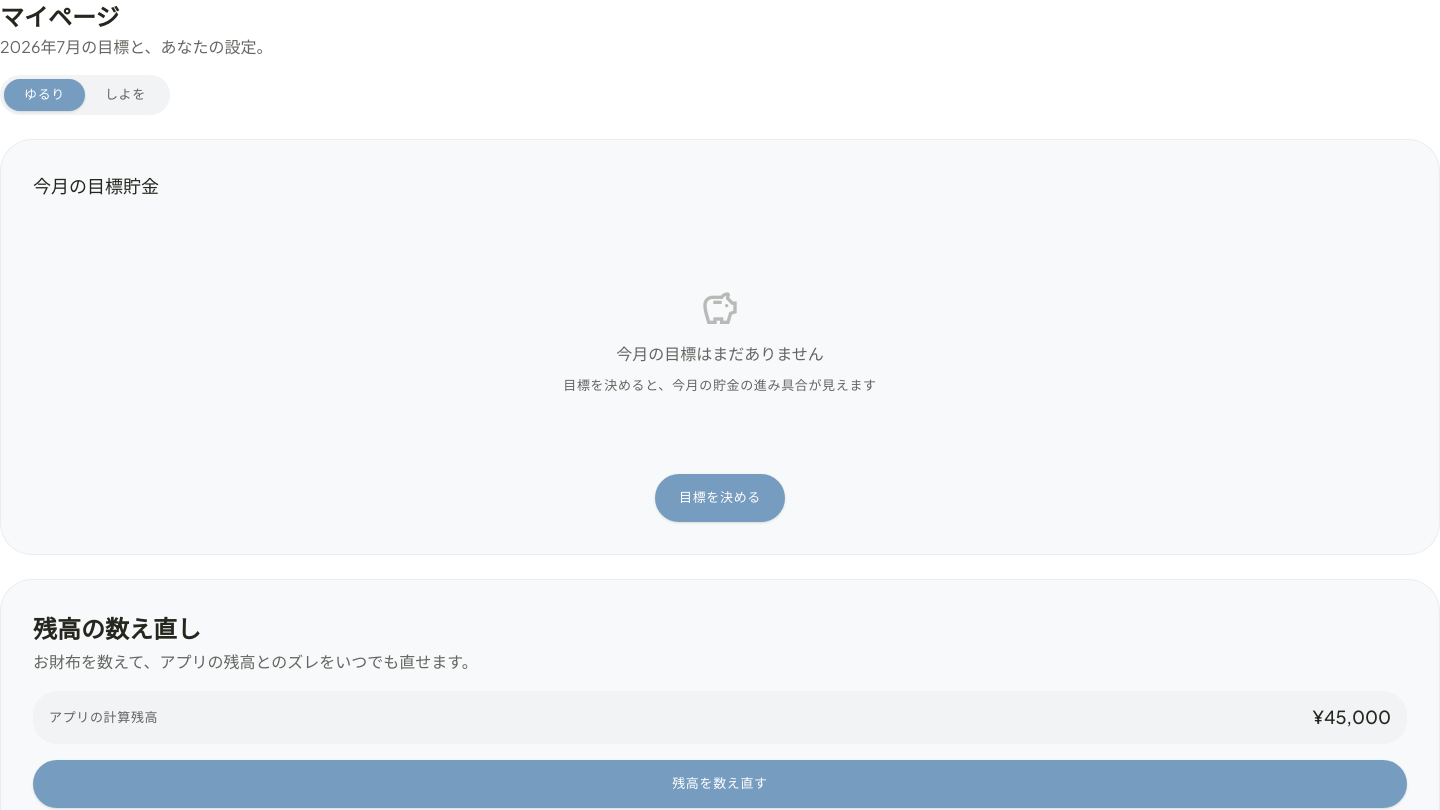
Scenario: MyPage 統合（目標貯金 + プロフィール） › 不正な目標額は保存しない
This screenshot has width=1440, height=810.
Click the button "目標を決める": (720, 498) [655,474,785,522]
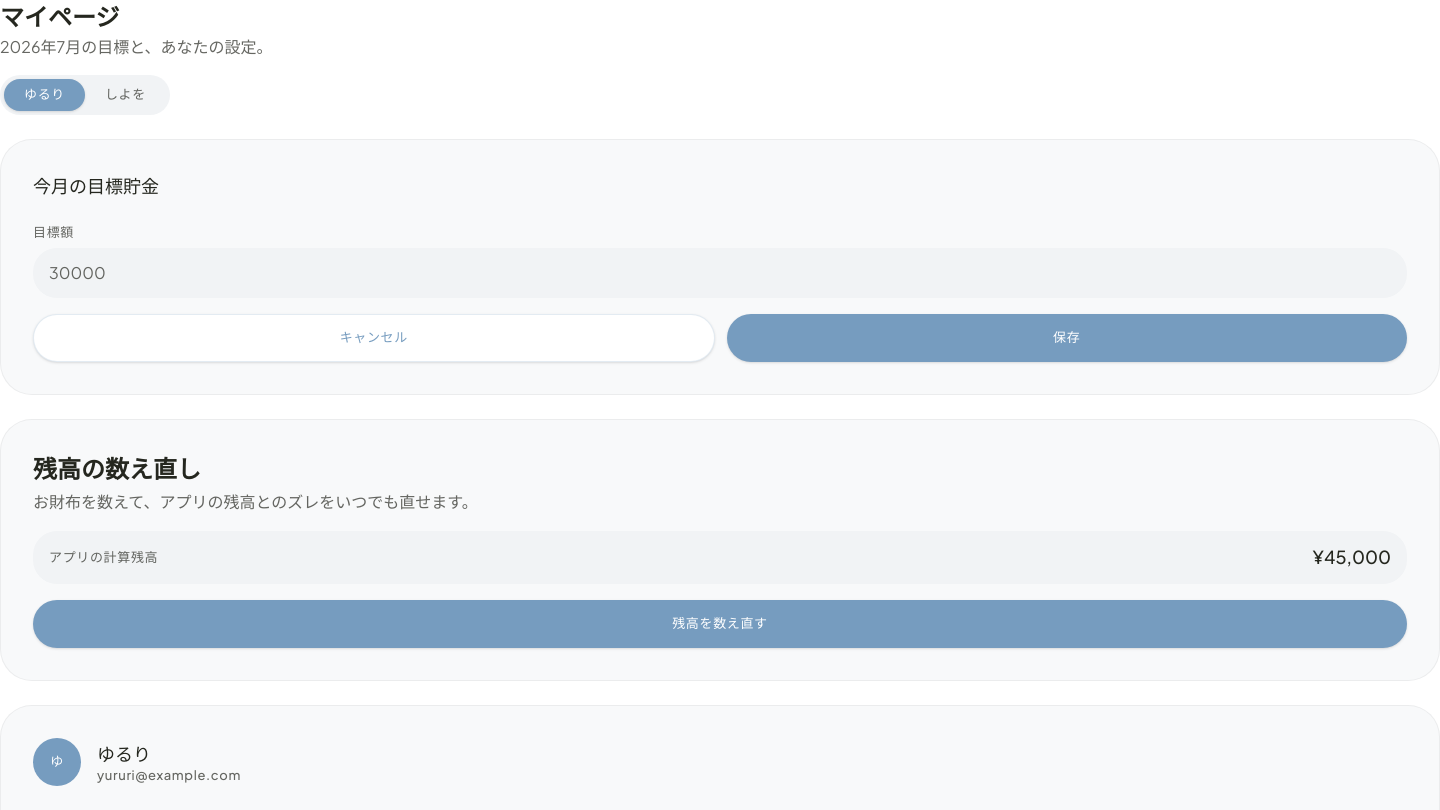
In the field labelled "目標額": (720, 273) [33,248,1407,298], type "-1"
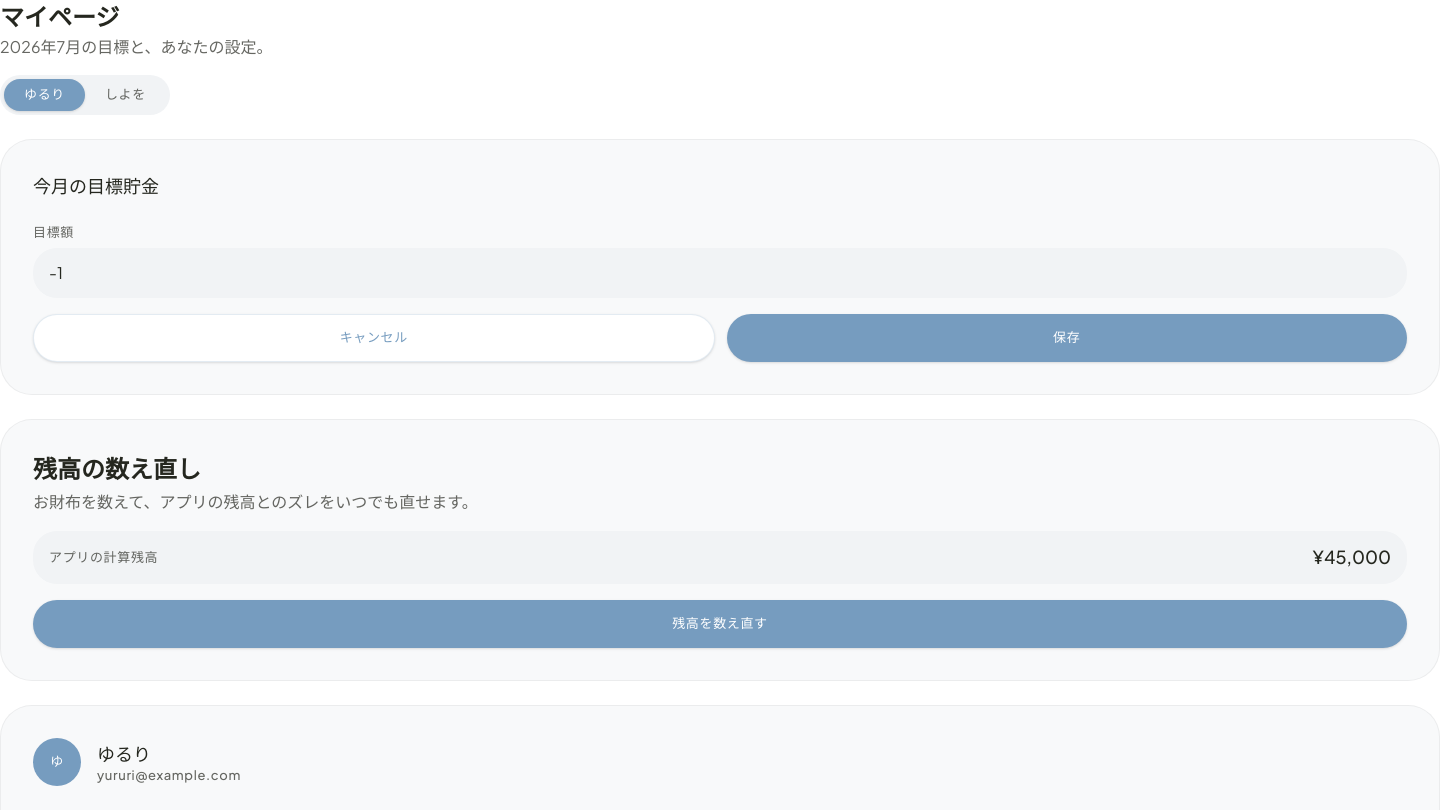
Click the button "保存": (1067, 338) [726,314,1407,362]
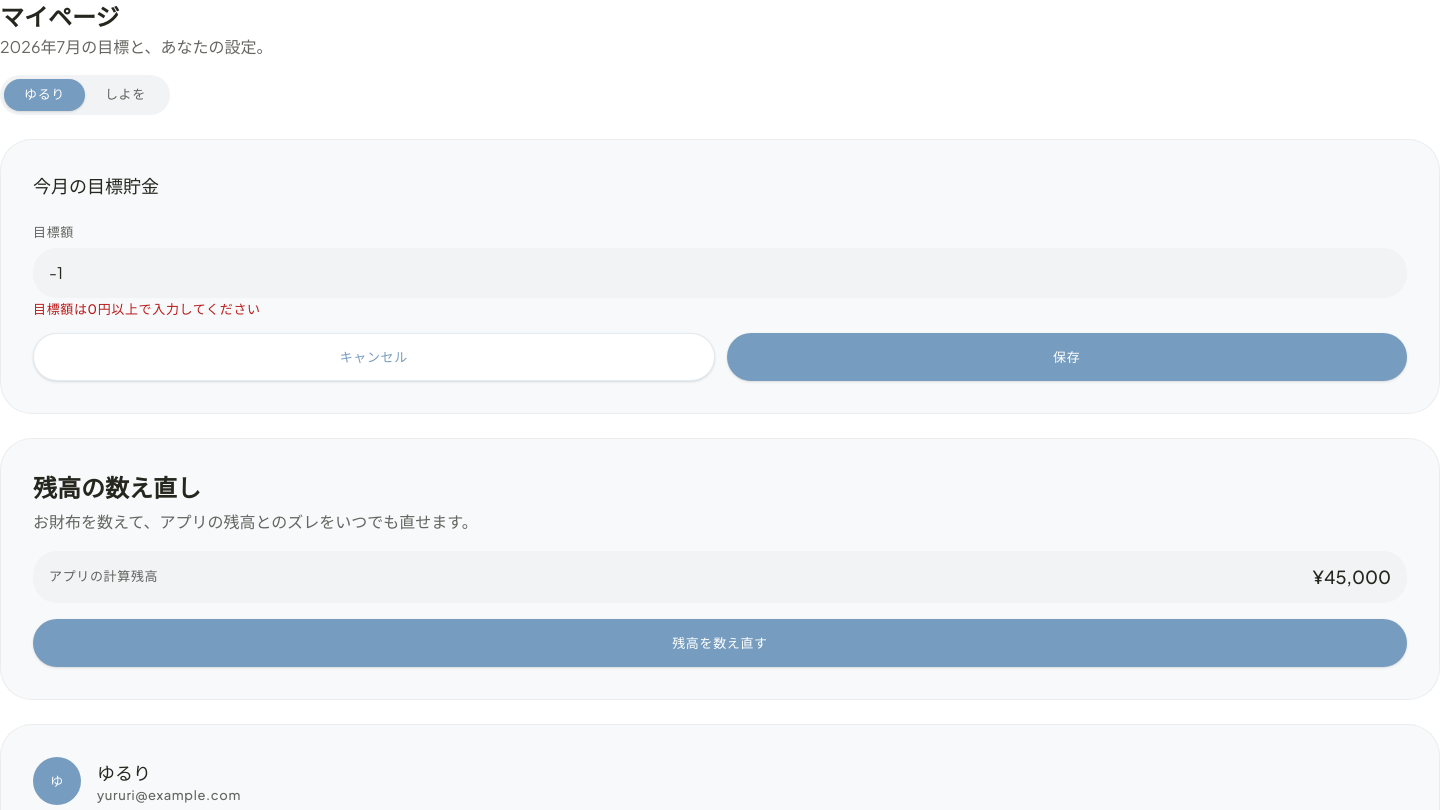
Now the text "目標額は0円以上で入力してください" is shown, box [33,301,261,317]
